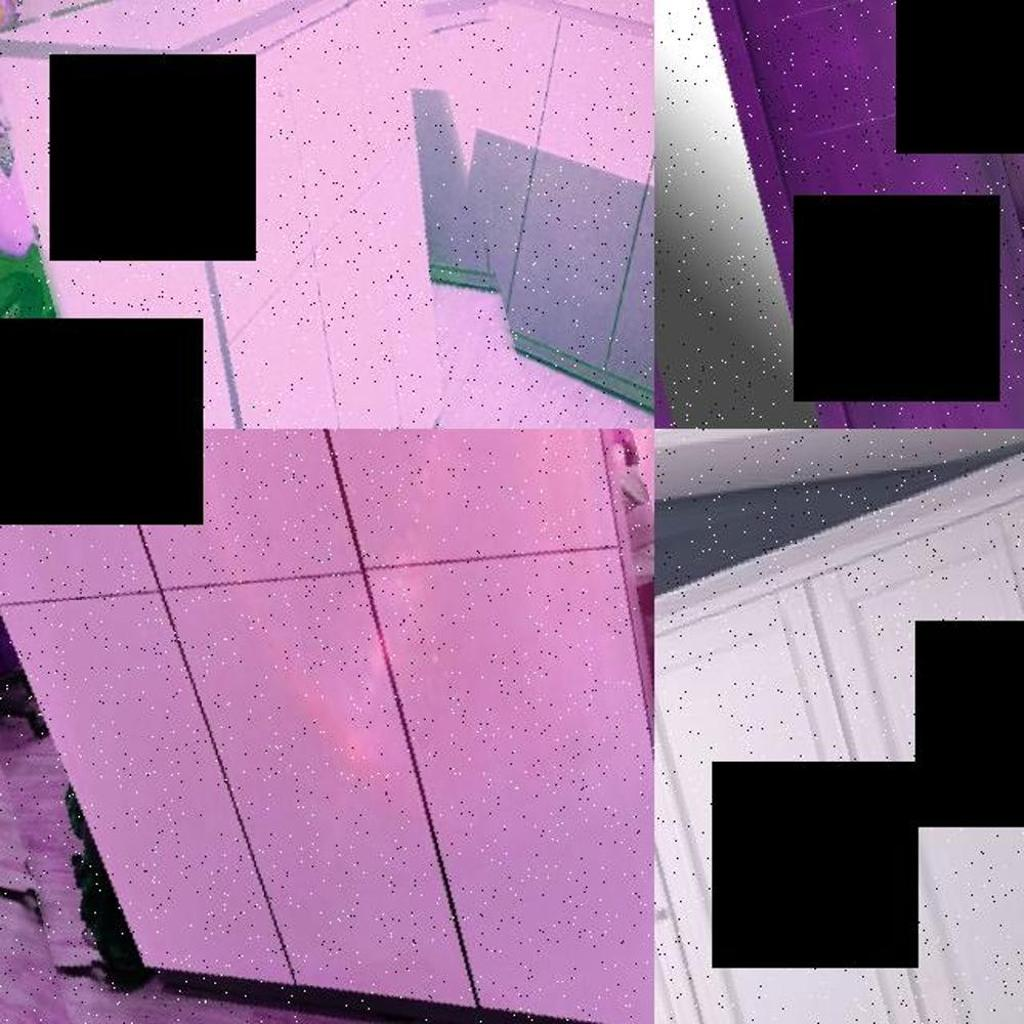cabinet: (27, 0, 557, 429), (654, 443, 1024, 1024), (654, 0, 1024, 429)
